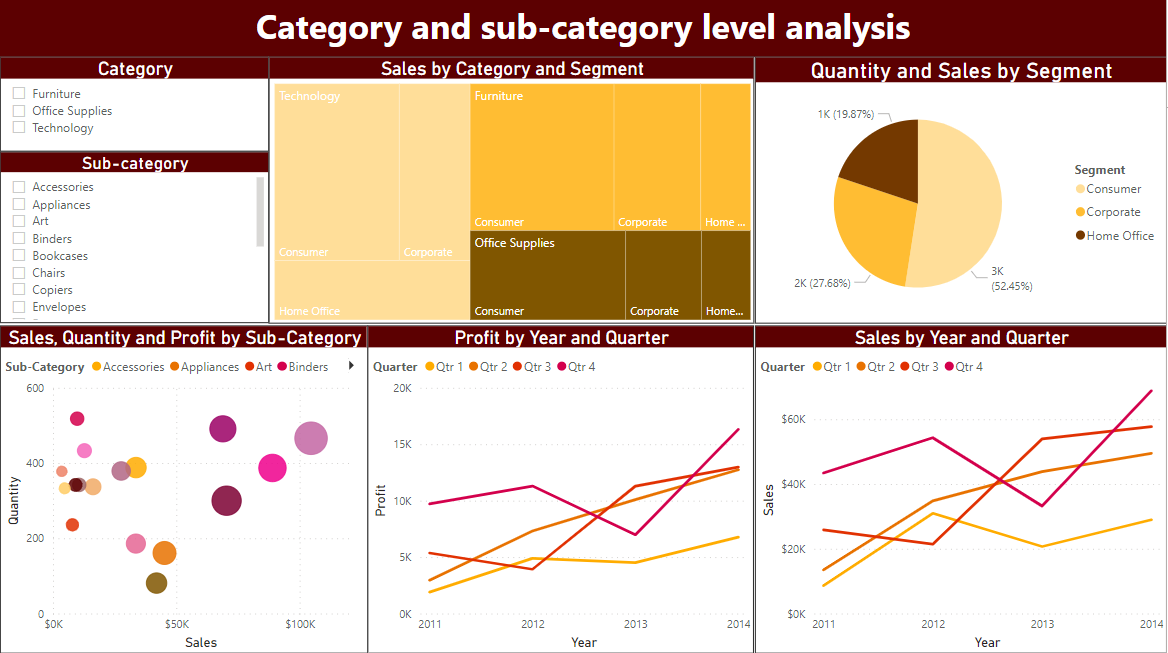

Layout of this report page (visuals, bound fields, positions):
{"tool":"powerbi","page":{"name":"Category and sub-category","canvas":[1280,720],"ordinal":2},"visuals":[{"type":"textbox","box":[0,0,1280,64.5],"z":0},{"type":"slicer","title":"Category","fields":{"Values":["Orders.Category"]},"box":[0,64.5,295.3,104.4],"z":1000},{"type":"slicer","title":"Sub-category","fields":{"Values":["Orders.Sub-Category"]},"box":[0,168.9,295.3,188.2],"z":2000},{"type":"treemap","fields":{"Values":["Sum(Orders.Sales)"],"Group":["Orders.Category"],"Details":["Orders.Segment"]},"box":[295.3,64.5,532.9,292.5],"z":3000},{"type":"pieChart","fields":{"Category":["Orders.Segment"],"Y":["Sum(Orders.Quantity)"]},"box":[828.1,64.5,451.8,292.5],"z":4000},{"type":"scatterChart","fields":{"Series":["Orders.Sub-Category"],"X":["Sum(Orders.Sales)"],"Y":["Sum(Orders.Quantity)"],"Size":["Sum(Orders.Profit)"]},"box":[0,359.8,403.8,359.8],"z":5000},{"type":"lineChart","fields":{"Series":["Orders.Order Date.Variation.Date Hierarchy.Quarter"],"Category":["Orders.Year"],"Y":["Sum(Orders.Profit)"]},"box":[404,360,424,360],"z":6000},{"type":"lineChart","fields":{"Series":["Orders.Order Date.Variation.Date Hierarchy.Quarter"],"Category":["Orders.Year"],"Y":["Sum(Orders.Sales)"]},"box":[828.1,359.8,451.8,359.8],"z":7000}]}

Visuals, with their boxes in screenshot pixels (x1, y1, x2, y2), scaled from the page's 1280x720 canvas onto the 1168x653 screenshot:
textbox: box(0, 0, 1167, 58)
"Category" slicer: box(0, 58, 269, 153)
"Sub-category" slicer: box(0, 153, 269, 324)
treemap - Sum(Orders.Sales) x Orders.Category: box(269, 58, 756, 324)
pieChart - Orders.Segment x Sum(Orders.Quantity): box(756, 58, 1167, 324)
scatterChart - Orders.Sub-Category x Sum(Orders.Sales): box(0, 326, 368, 652)
lineChart - Orders.Order Date.Variation.Date Hierarchy.Quarter x Orders.Year: box(369, 326, 756, 652)
lineChart - Orders.Order Date.Variation.Date Hierarchy.Quarter x Orders.Year: box(756, 326, 1167, 652)
